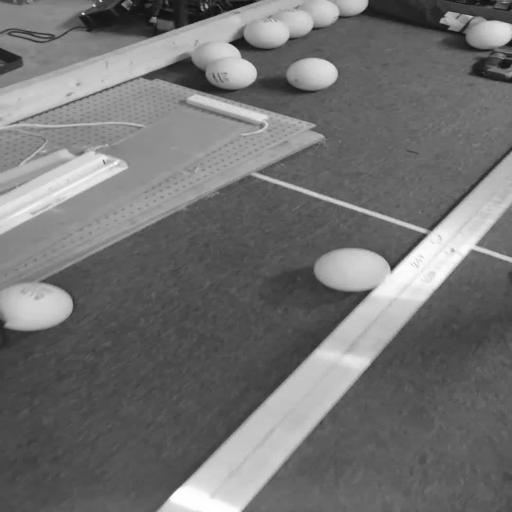fuel: (0, 282, 73, 331), (313, 248, 391, 292), (286, 58, 338, 91), (205, 57, 257, 90), (191, 41, 241, 71), (243, 18, 289, 49), (466, 21, 512, 50), (271, 8, 313, 39), (299, 0, 339, 29), (329, 0, 368, 17)
